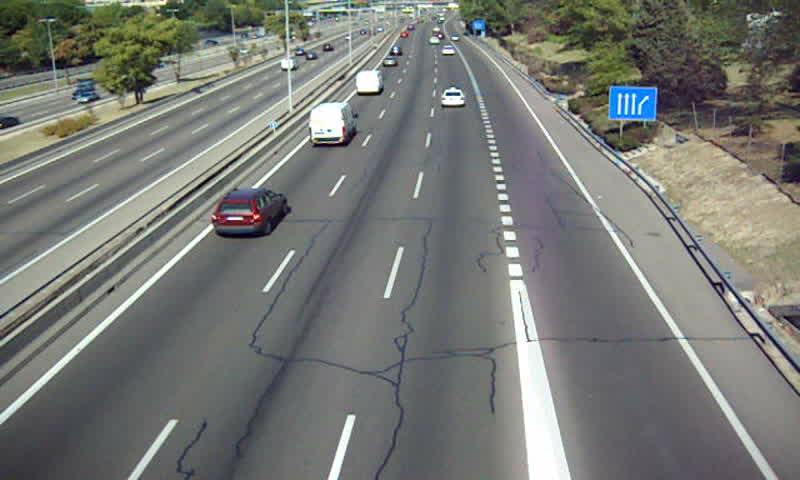car: (212, 190, 286, 237), (441, 89, 465, 107), (382, 56, 398, 68), (441, 44, 456, 56), (391, 44, 403, 56)
van: (309, 103, 356, 146), (354, 71, 382, 93)
